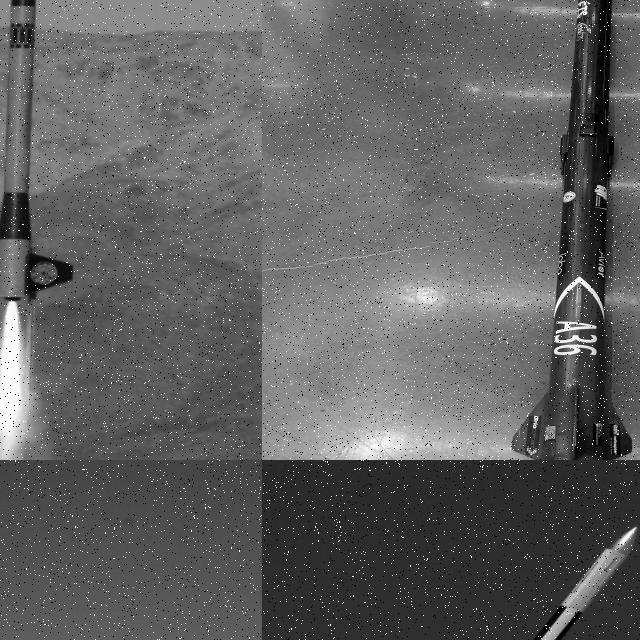Rocket: (511, 0, 633, 460), (0, 0, 76, 302), (467, 525, 639, 640)
